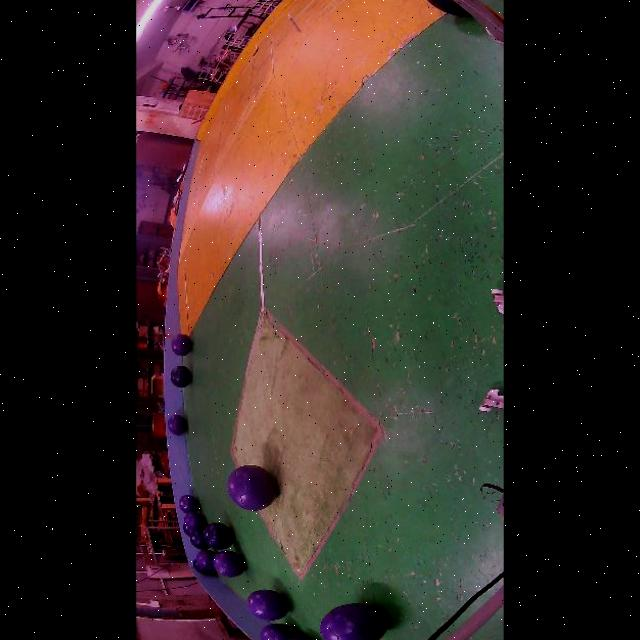B: (203, 522, 234, 550), (170, 366, 191, 388), (189, 530, 209, 550)
P: (227, 464, 278, 512), (319, 604, 387, 640), (246, 590, 290, 620), (212, 550, 245, 577), (259, 623, 299, 640), (170, 334, 191, 356), (184, 512, 205, 531), (177, 495, 199, 513), (167, 415, 186, 435), (195, 550, 214, 570)
